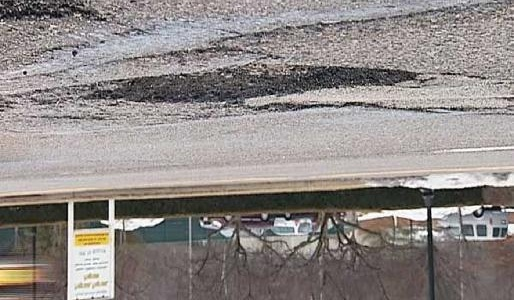pothole: (96, 63, 417, 103), (0, 0, 98, 22)
